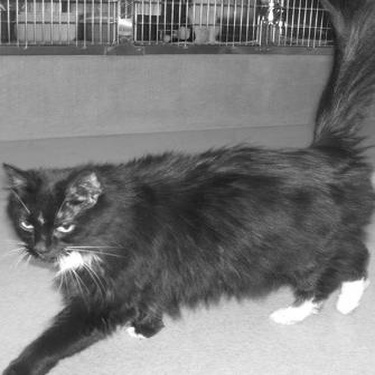cat: (3, 1, 371, 371)
